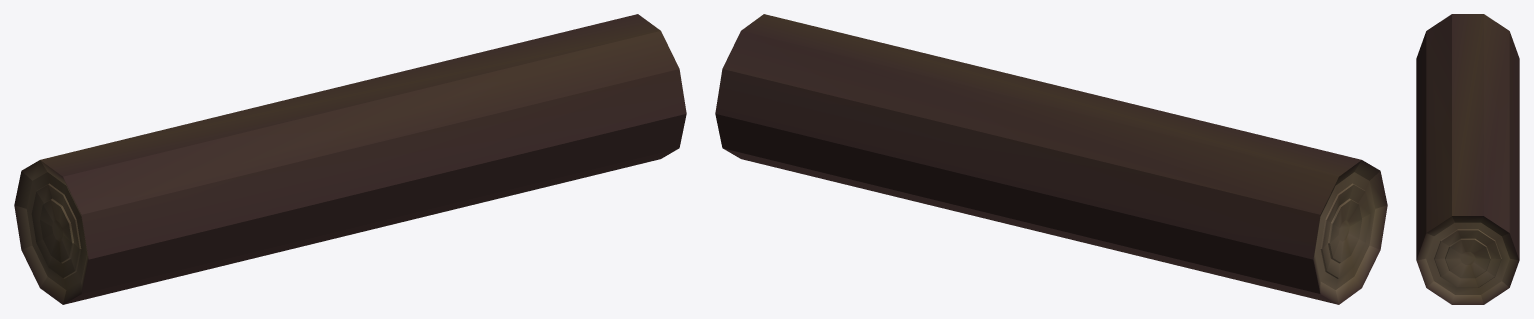
Rendered from f6 wood v2.fbx.
3 renders of one model, left to right at view 1: azimuth 30°, elevation 25°; view 2: azimuth 150°, elevation 25°; view 3: azimuth 270°, elevation 25°, orthographic. The views are drawn at different scales.
Visible parts, largest first — view 1: Circle; view 2: Circle; view 3: Circle.
Boxes of the visible parts, x1,y1,x2,y2 form: Circle: (14, 14, 686, 304); Circle: (715, 14, 1387, 304); Circle: (1416, 14, 1519, 304).
Size of the model in its own units: 928 by 190 by 200.
